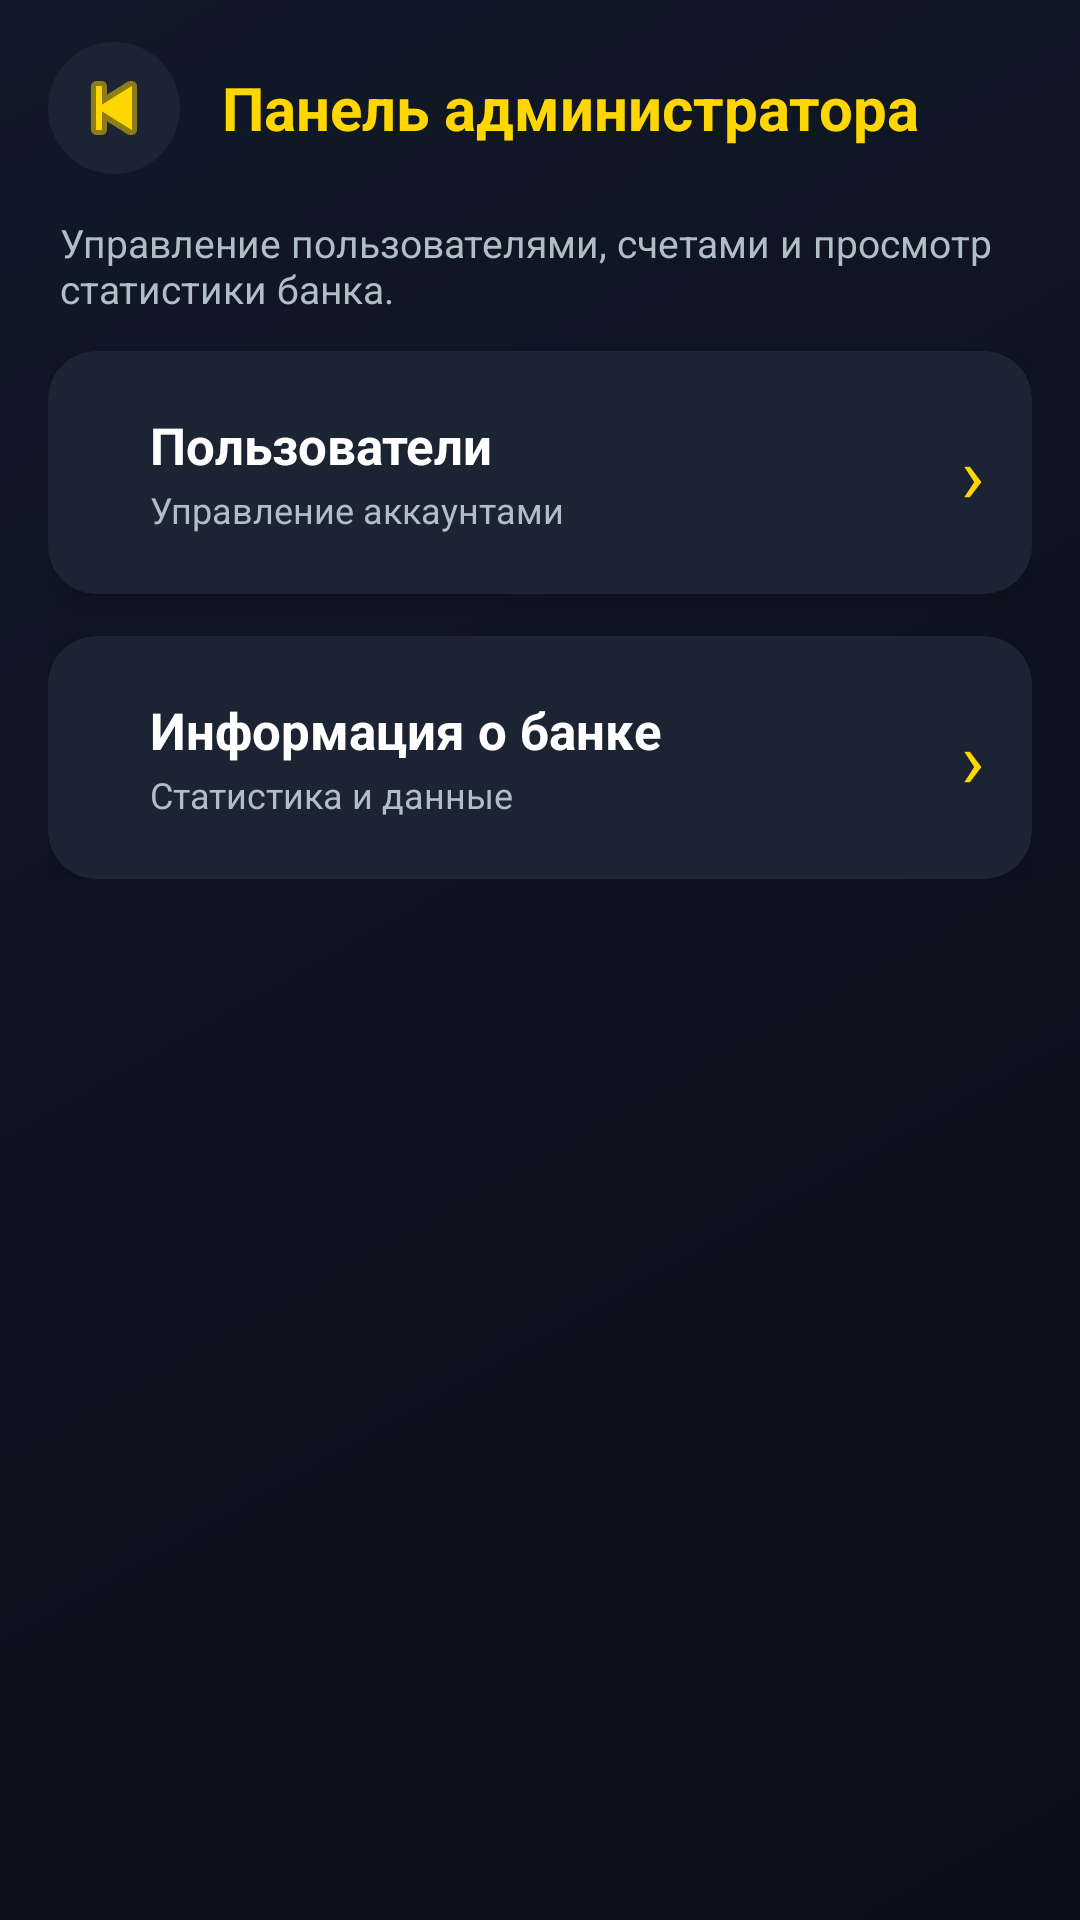

Named icons in this screenshot (1080w x 1920h) and their bounding boxes, (x1, y1, x2, y2):
Назад: (91, 81, 137, 135)
